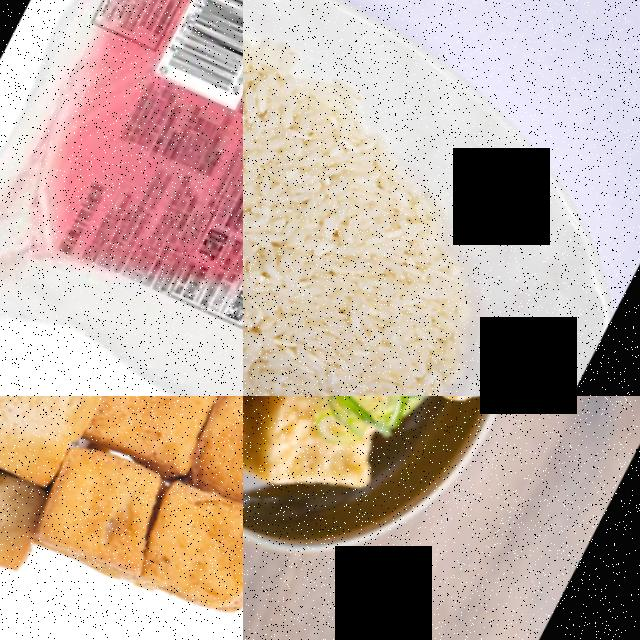tofu: (22, 435, 193, 589), (121, 469, 243, 632), (71, 396, 243, 483), (0, 396, 112, 492), (177, 396, 243, 538), (0, 454, 62, 583)
white rice: (243, 34, 515, 396)
